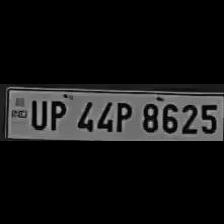2: (179, 100, 197, 134)
4: (72, 97, 96, 131), (93, 97, 112, 132)
5: (196, 99, 218, 133)
6: (158, 99, 178, 133)
8: (136, 99, 158, 134)
P: (46, 96, 68, 130), (111, 97, 132, 132)
U: (28, 96, 46, 130)
